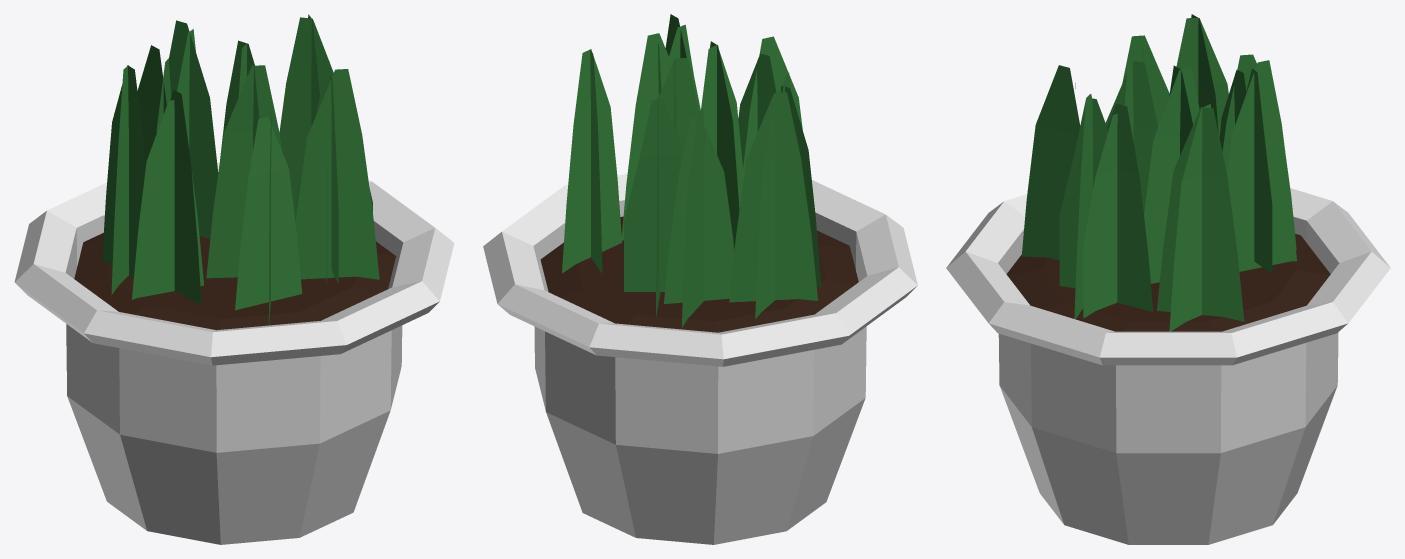
Rendered from vase_1.fbx.
The picture shows the model from 3 angles, left to right: view 1: azimuth 30°, elevation 25°; view 2: azimuth 150°, elevation 25°; view 3: azimuth 270°, elevation 25°; orthographic projection.
Parts seen in each view (by area): view 1: Pot_2, Plant_1, DirtPot_1; view 2: Pot_2, Plant_1, DirtPot_1; view 3: Pot_2, Plant_1, DirtPot_1.
Part boxes in pixels (bbox=[...]): Pot_2: bbox=[14, 163, 454, 544]; Plant_1: bbox=[102, 14, 379, 325]; DirtPot_1: bbox=[74, 232, 396, 330]; Pot_2: bbox=[483, 174, 917, 544]; Plant_1: bbox=[562, 14, 821, 327]; DirtPot_1: bbox=[540, 216, 858, 332]; Pot_2: bbox=[946, 188, 1390, 544]; Plant_1: bbox=[1021, 14, 1296, 331]; DirtPot_1: bbox=[1006, 233, 1330, 331].
Bounding box in the file's own units: 23.12 × 26.09 × 24.31.
